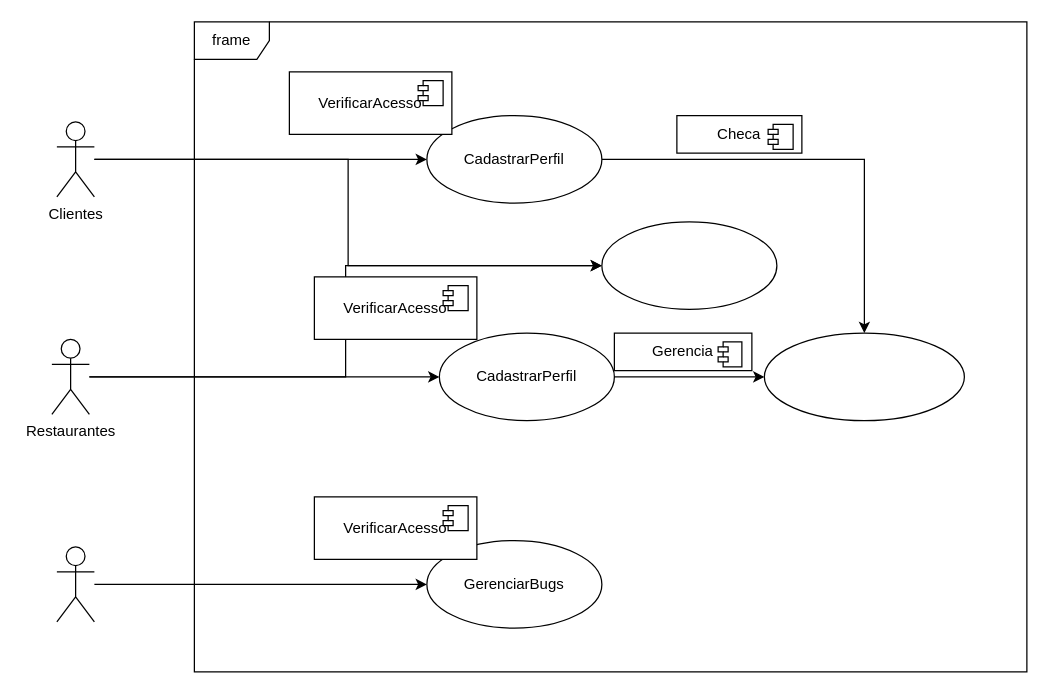
The diagram is 1049 pixels wide and 694 high, and some of its shapes have lost their labels. The centre of each missing label's shape, as x and y in pixels:
Administradores: point (75, 584)
InformaçõesDoRestaurante: point (863, 376)
ReportarBugs: point (689, 265)
